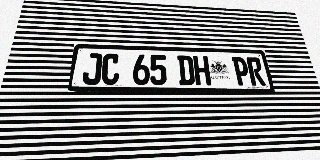5: (150, 55, 167, 85)
6: (133, 54, 150, 85)
C: (101, 53, 120, 85)
D: (177, 55, 195, 85)
H: (193, 56, 211, 85)
J: (82, 53, 103, 85)
P: (231, 57, 251, 85)
R: (246, 57, 266, 86)
